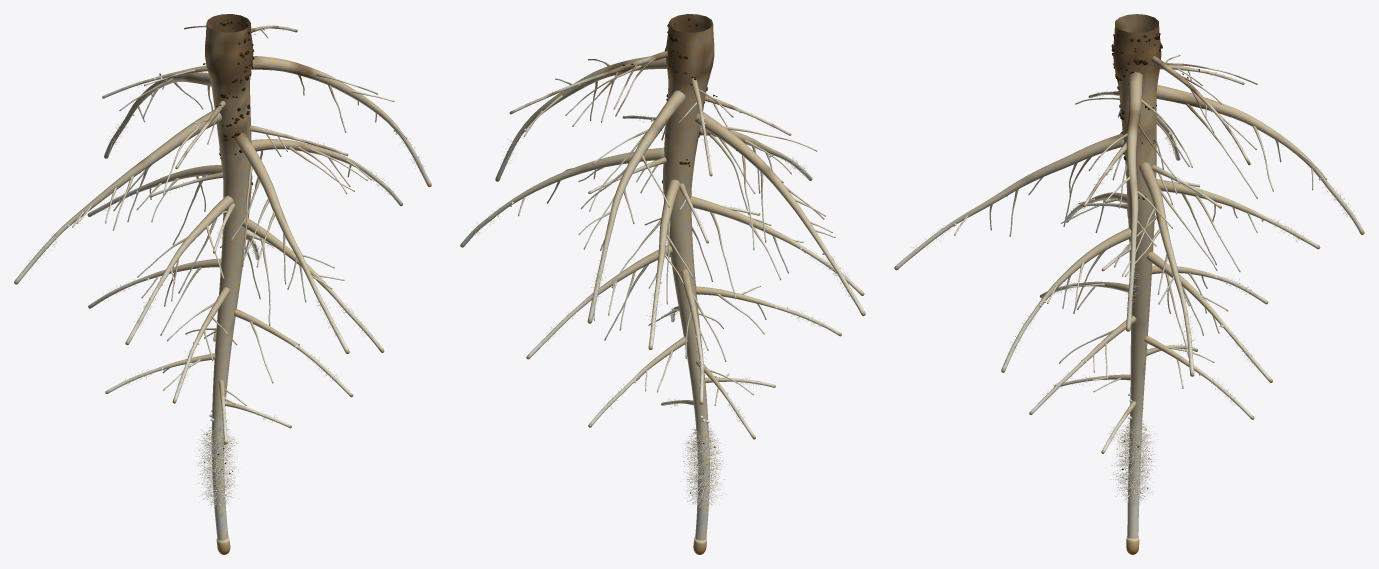
Rendered from raiz.glb.
3 renders of one model, left to right at view 1: azimuth 30°, elevation 25°; view 2: azimuth 150°, elevation 25°; view 3: azimuth 270°, elevation 25°, orthographic.
Visible parts, largest first — view 1: raiz, zona_ramificacao, coleto, pelos_absorventes, pelos_absorventes_laterais, zona_pilifera, solo_aderido; view 2: raiz, zona_ramificacao, coleto, pelos_absorventes, pelos_absorventes_laterais, zona_pilifera; view 3: raiz, zona_ramificacao, coleto, pelos_absorventes, pelos_absorventes_laterais, zona_pilifera.
Boxes of the visible parts, <box> form: raiz: <box>14,25,431,444</box>; zona_ramificacao: <box>205,52,253,429</box>; coleto: <box>205,14,253,64</box>; pelos_absorventes: <box>196,425,239,507</box>; pelos_absorventes_laterais: <box>29,25,424,428</box>; zona_pilifera: <box>211,428,225,511</box>; solo_aderido: <box>159,18,255,482</box>; raiz: <box>460,51,865,439</box>; zona_ramificacao: <box>662,56,714,431</box>; coleto: <box>666,14,714,64</box>; pelos_absorventes: <box>680,425,724,508</box>; pelos_absorventes_laterais: <box>471,60,852,423</box>; zona_pilifera: <box>696,429,709,511</box>; raiz: <box>894,54,1364,453</box>; zona_ramificacao: <box>1113,56,1161,426</box>; coleto: <box>1113,14,1161,63</box>; pelos_absorventes: <box>1110,418,1156,503</box>; pelos_absorventes_laterais: <box>910,70,1355,441</box>; zona_pilifera: <box>1127,424,1141,507</box>.
Size of the model in its own units: 2.04 by 2.61 by 2.08.
Materials: 4 (2 with a texture image).
